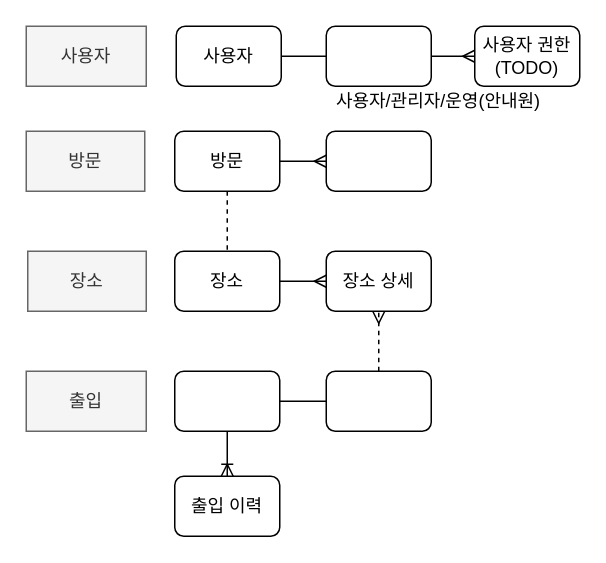
The diagram is 606 pixels wide and 563 high, and some of its shapes have lost their labels. Here are the shapes that lost their labels. From the top down, the centre of each, then its label:
(x=378, y=55): 사용자 역할
(x=378, y=160): 방문자
(x=226, y=400): 출입증
(x=378, y=400): 출입증 권한 (TODO)
